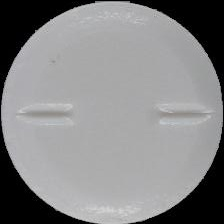42291-509: (0, 0, 224, 224)
